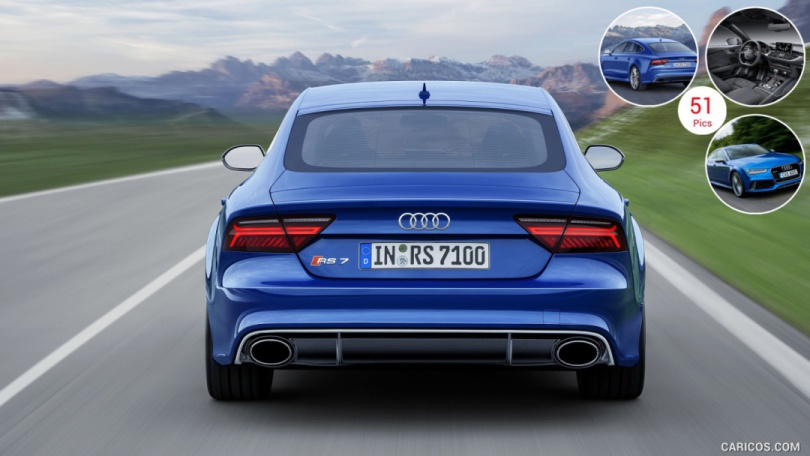audi: (390, 205, 459, 235)
